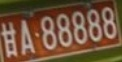A: (21, 21, 35, 55)
